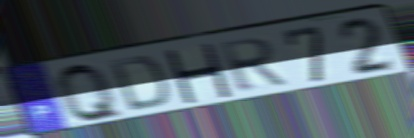2: (338, 15, 398, 77)
7: (281, 24, 324, 85)
D: (106, 54, 172, 114)
H: (161, 42, 234, 105)
Q: (54, 61, 129, 124)
R: (216, 36, 290, 95)
